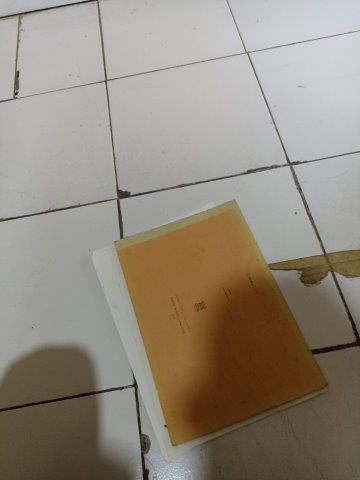kertas: (91, 200, 330, 461)
